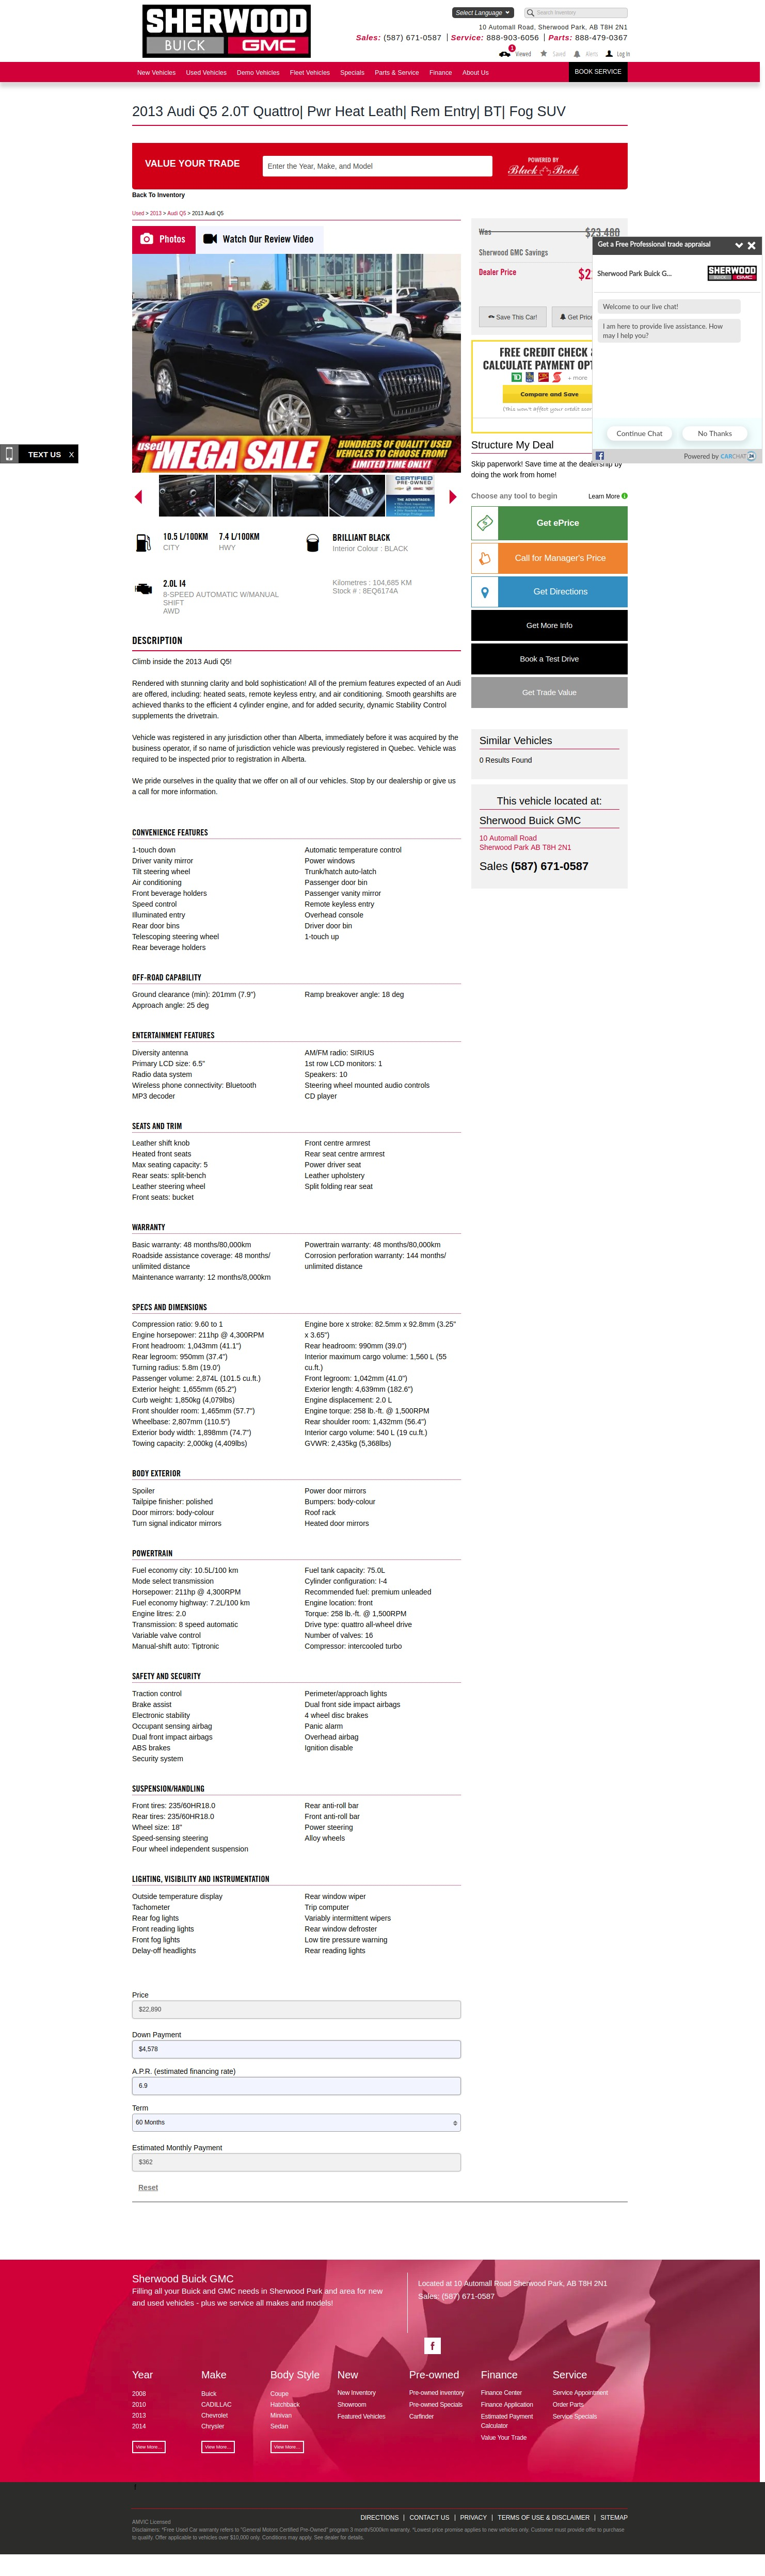car: (450, 490, 458, 504)
